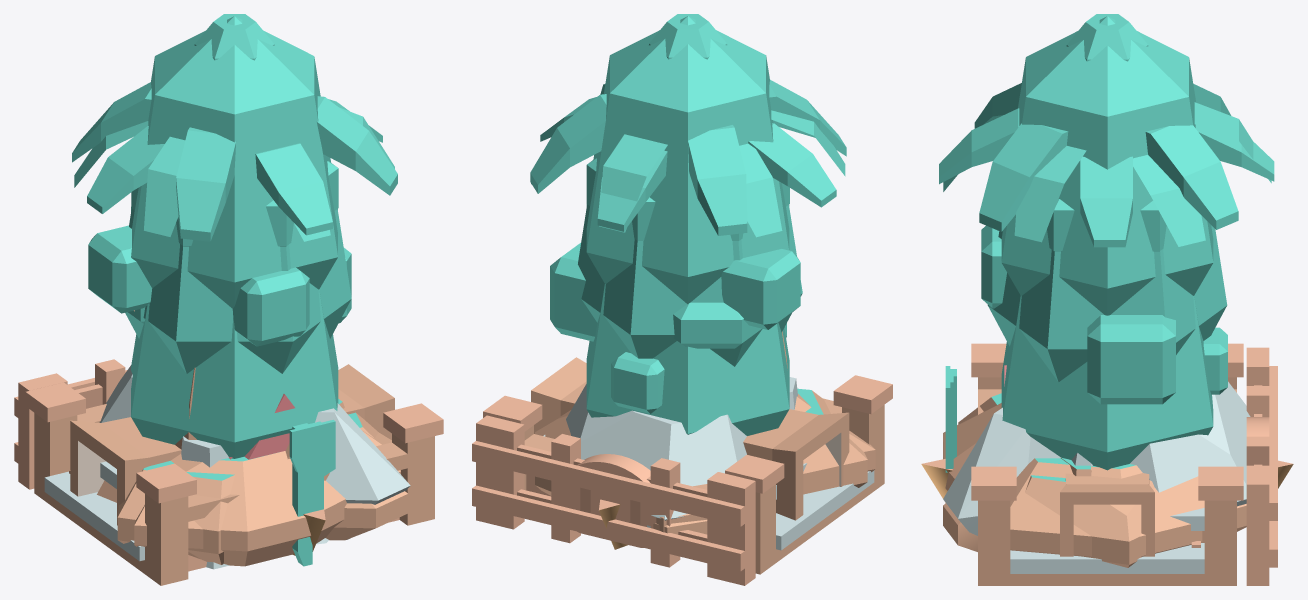
File: nature.glb
The picture shows the model from 3 angles, left to right: view 1: azimuth 30°, elevation 25°; view 2: azimuth 150°, elevation 25°; view 3: azimuth 270°, elevation 25°; orthographic projection. The views are drawn at different scales.
Parts seen in each view (by area): view 1: tree_default, bridge_woodNarrow, tree_fat, leafs (×2), tree_oak, rock_largeC, tree_detailed, log_large, stone_largeB, tree_palmTall, tree_palmBend, hanging_moss (+10 smaller); view 2: tree_default, fence_planks, leafs (×2), tree_fat, bridge_woodNarrow, tree_detailed, stone_largeB, tree_oak, log_large, tree_palmBend, fence_simple, tree_plateau (+6 smaller); view 3: tree_default, bridge_woodNarrow, leafs (×2), tree_fat, tree_oak, tree_detailed, stone_largeB, rock_largeC, tree_palmBend, rock_largeE, tree_palmTall, log_large (+8 smaller).
Part boxes in pixels (left/top/right/bottom): tree_default: left=131, top=16, right=337, bottom=308; bridge_woodNarrow: left=25, top=382, right=443, bottom=585; tree_fat: left=131, top=289, right=338, bottom=458; leafs (×2): left=72, top=82, right=397, bottom=241; tree_oak: left=125, top=208, right=351, bottom=373; rock_largeC: left=134, top=431, right=400, bottom=566; tree_detailed: left=88, top=225, right=351, bottom=346; log_large: left=70, top=364, right=394, bottom=525; stone_largeB: left=99, top=365, right=410, bottom=539; tree_palmTall: left=100, top=99, right=349, bottom=213; tree_palmBend: left=74, top=107, right=394, bottom=241; hanging_moss: left=289, top=419, right=335, bottom=566; tree_default: left=586, top=16, right=789, bottom=303; fence_planks: left=472, top=420, right=744, bottom=581; leafs (×2): left=530, top=79, right=846, bottom=235; tree_fat: left=586, top=284, right=789, bottom=435; bridge_woodNarrow: left=483, top=375, right=892, bottom=574; tree_detailed: left=550, top=243, right=800, bottom=413; stone_largeB: left=566, top=384, right=746, bottom=520; tree_oak: left=578, top=204, right=802, bottom=366; log_large: left=531, top=357, right=849, bottom=520; tree_palmBend: left=531, top=84, right=845, bottom=237; fence_simple: left=476, top=415, right=755, bottom=585; tree_plateau: left=586, top=158, right=789, bottom=348; tree_default: left=1001, top=16, right=1213, bottom=315; bridge_woodNarrow: left=971, top=343, right=1243, bottom=585; leafs (×2): left=939, top=83, right=1274, bottom=247; tree_fat: left=1001, top=296, right=1213, bottom=470; tree_oak: left=987, top=225, right=1227, bottom=382; tree_detailed: left=981, top=225, right=1227, bottom=404; stone_largeB: left=943, top=381, right=1250, bottom=535; rock_largeC: left=943, top=403, right=1204, bottom=556; tree_palmBend: left=943, top=102, right=1271, bottom=246; rock_largeE: left=958, top=393, right=1154, bottom=567; tree_palmTall: left=939, top=108, right=1254, bottom=245; log_large: left=1060, top=473, right=1154, bottom=556.
Bounding box in the file's own units: 1.1 × 1.71 × 1.15.
